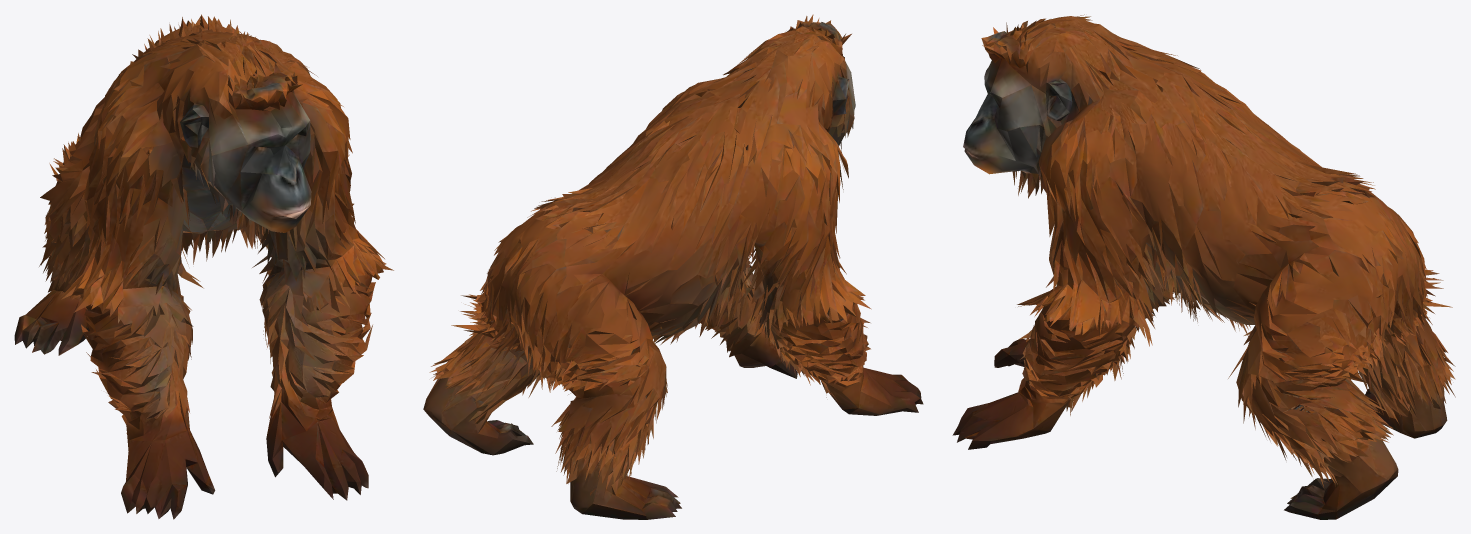
Rendered from animal_orangutan.glb.
The picture shows the model from 3 angles, left to right: view 1: azimuth 30°, elevation 25°; view 2: azimuth 150°, elevation 25°; view 3: azimuth 270°, elevation 25°; orthographic projection. The views are drawn at different scales.
Size of the model in its own units: 1.53 by 1.6 by 1.86.
1 material, 1 textured.
